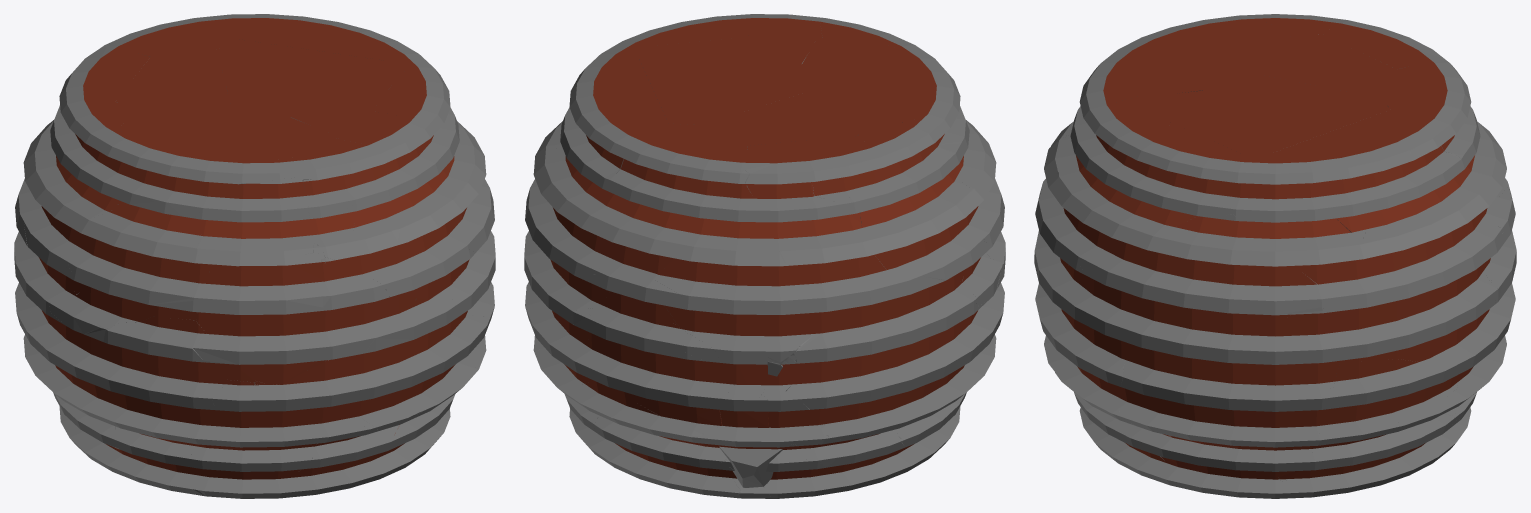
File: barril.fbx
3 views of the same model, side by side, from view 1: azimuth 30°, elevation 25°; view 2: azimuth 150°, elevation 25°; view 3: azimuth 270°, elevation 25° (orthographic).
Parts seen in each view (by area): view 1: Cylinder_cell.025_cell.004_cell.011; view 2: Cylinder_cell.025_cell.004_cell.011; view 3: Cylinder_cell.025_cell.004_cell.011.
Part boxes in pixels (box(x1,y1,x2,y2)): Cylinder_cell.025_cell.004_cell.011: box(14, 14, 495, 498); Cylinder_cell.025_cell.004_cell.011: box(524, 14, 1005, 498); Cylinder_cell.025_cell.004_cell.011: box(1034, 14, 1516, 498).
Bounding box in the file's own units: 2.8 × 2.13 × 2.8.
